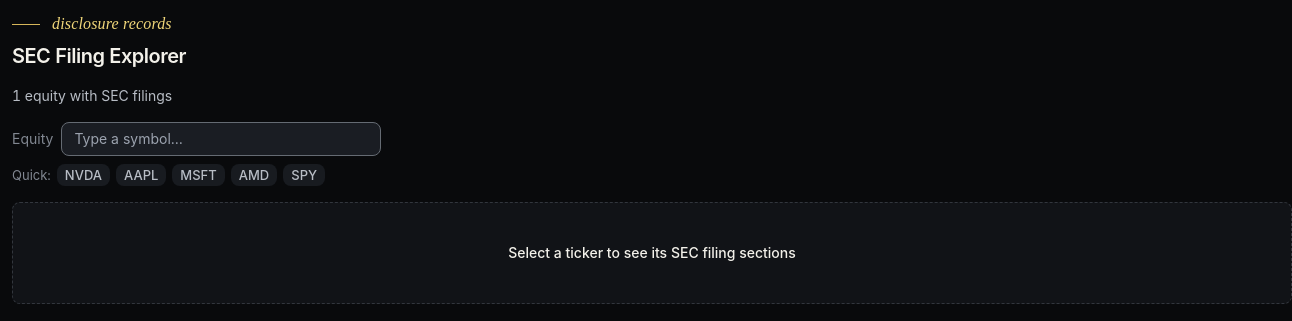
Test: SecFilingExplorer › shows no-coverage message for ticker without processed filings
The width and height of the screenshot is (1292, 321).
Expected: the text "1 equity with SEC filings" is shown, [12, 87, 172, 104]
Focus the dropdown at (221, 139), box [62, 123, 380, 155]
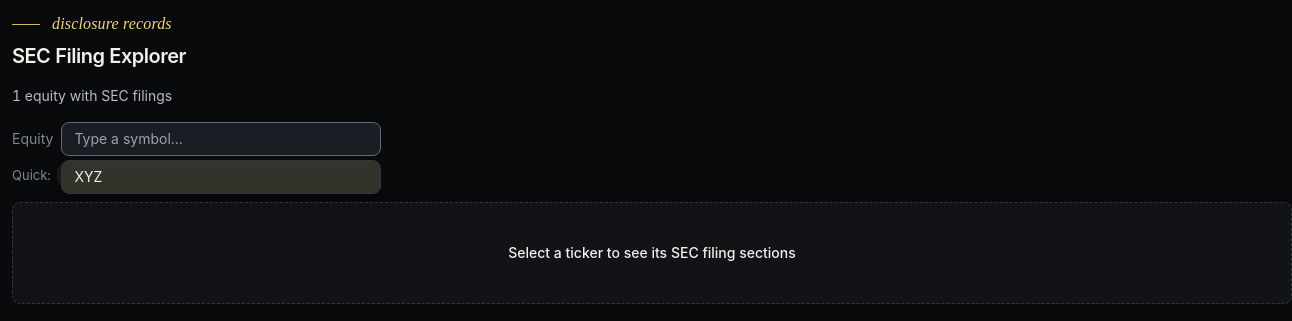
Result: the option "XYZ" is shown
Press the mouse on the option "XYZ" at (88, 176), box [62, 161, 380, 193]
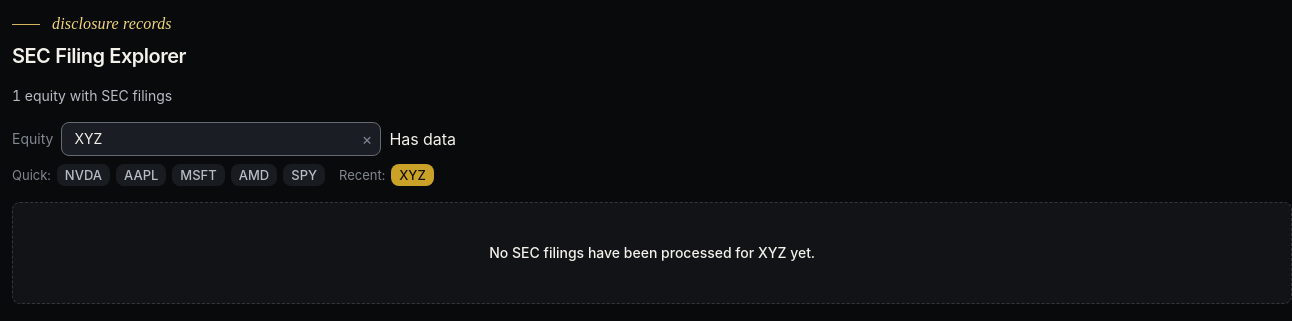
Result: the text "No SEC filings have been processed for XYZ yet." is shown at [489, 243, 815, 263]
